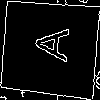A: (25, 23, 70, 62)
